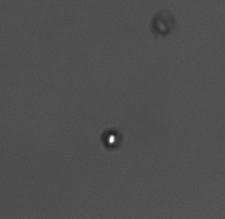Dead Cell: (150, 9, 176, 36)
Living Cell: (100, 128, 120, 150)
